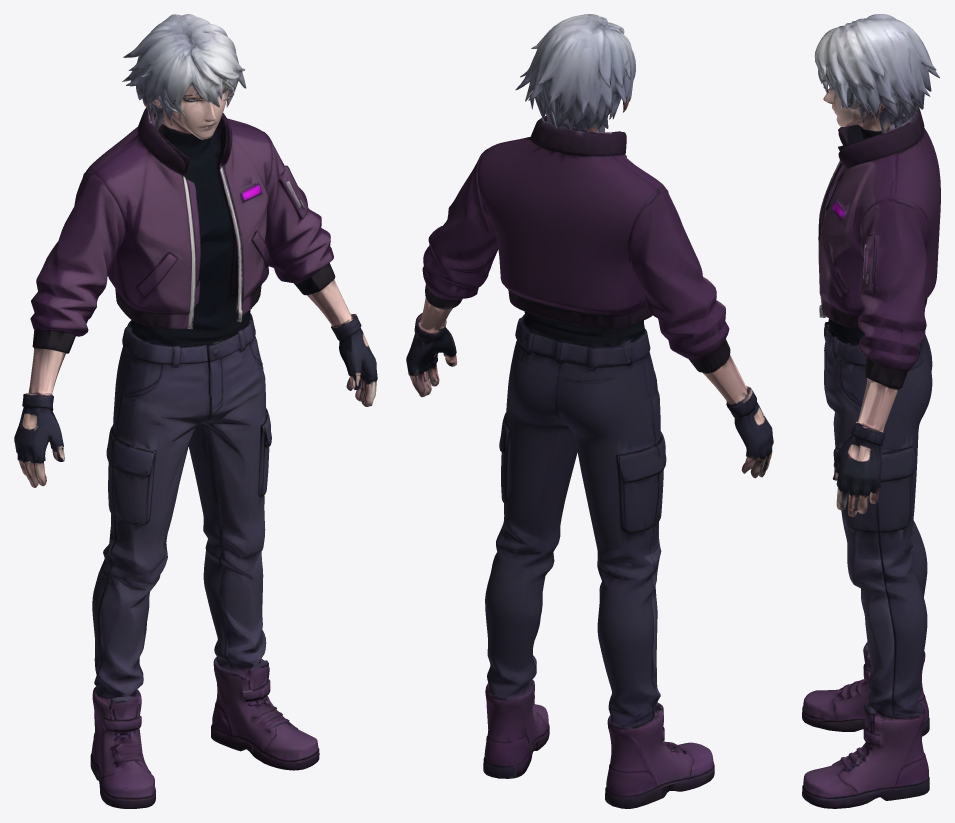
The picture shows the model from 3 angles, left to right: view 1: azimuth 30°, elevation 25°; view 2: azimuth 150°, elevation 25°; view 3: azimuth 270°, elevation 25°; orthographic projection.
Visible parts, largest first — view 1: node_0; view 2: node_0; view 3: node_0.
Boxes of the visible parts, x1,y1,x2,y2 form: node_0: [14, 14, 377, 808]; node_0: [406, 14, 773, 808]; node_0: [802, 14, 940, 808].
Bounding box in the file's own units: 0.573 × 1.15 × 0.1958.
1 material, 1 textured.
